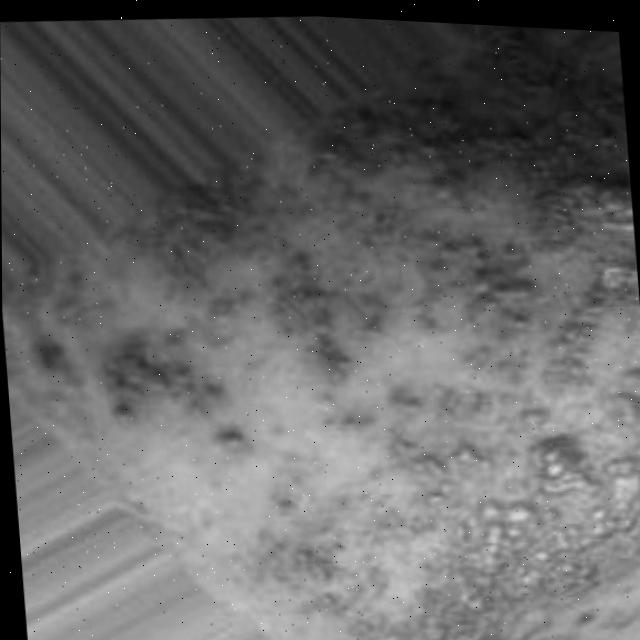Shingles: (21, 152, 640, 640)
